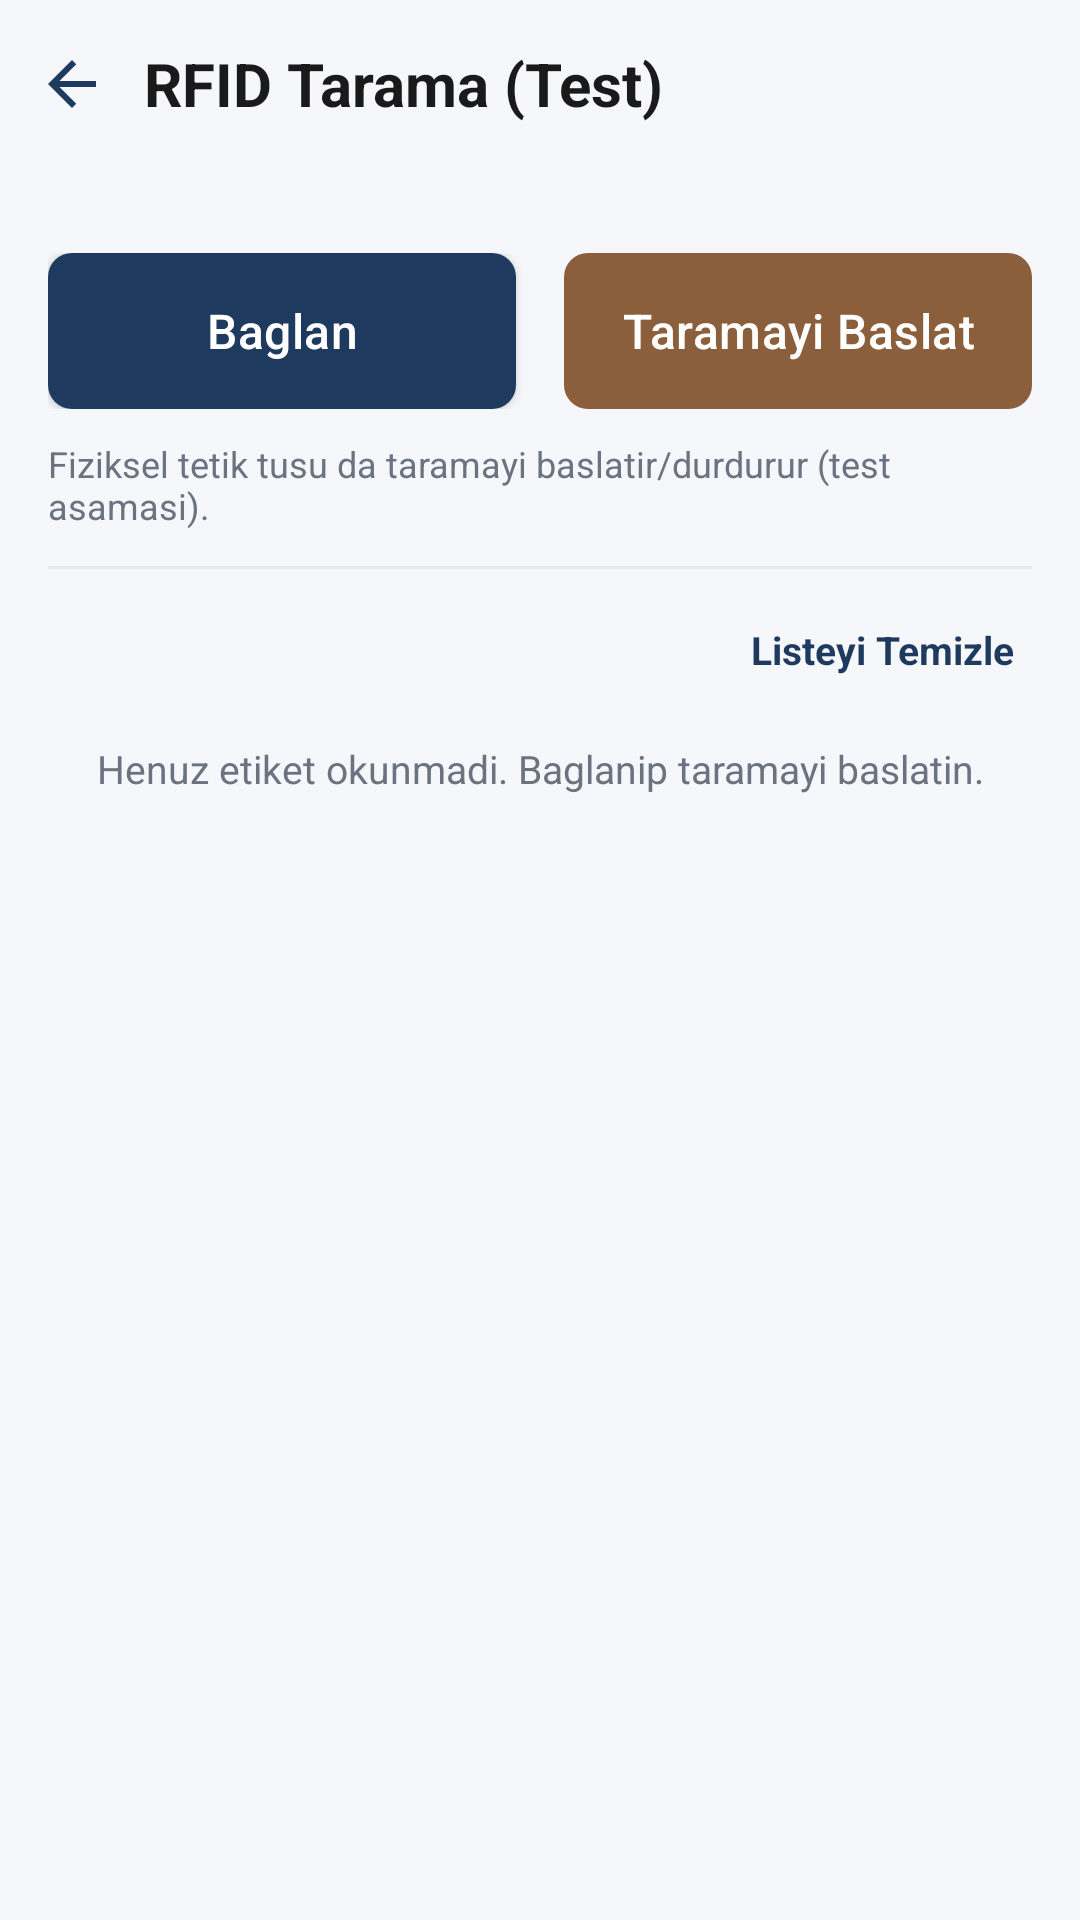

Icon bounding boxes for this 1080*1920 phone screenshot, format [left=x1, top=y1, right=x2, bottom=y2]:
Geri: [left=48, top=60, right=96, bottom=108]
